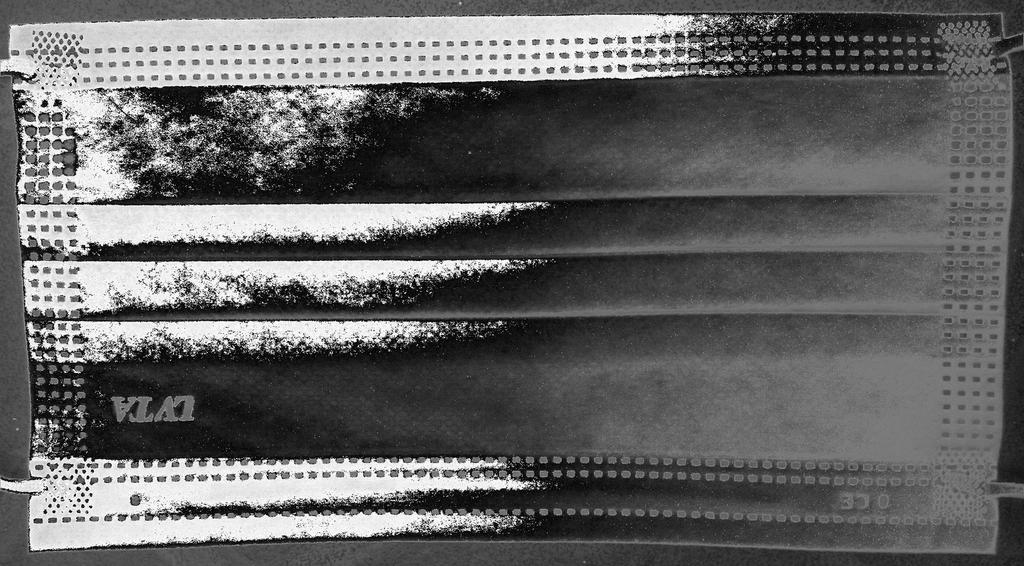High GSM: (8, 4, 553, 558)
